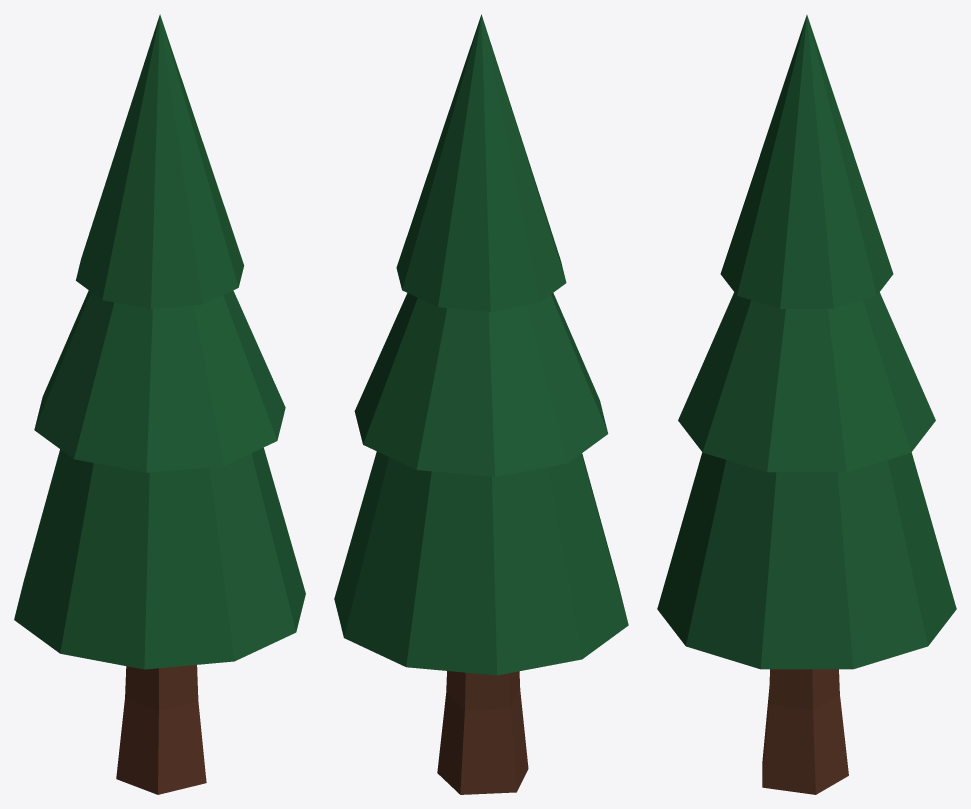
The model's file is Pinheiro.fbx.
3 views of the same model, side by side, from view 1: azimuth 30°, elevation 25°; view 2: azimuth 150°, elevation 25°; view 3: azimuth 270°, elevation 25° (orthographic).
Parts seen in each view (by area): view 1: Pinheiro.002; view 2: Pinheiro.002; view 3: Pinheiro.002.
Part boxes in pixels (<box>): Pinheiro.002: <box>14,14,305,794</box>; Pinheiro.002: <box>334,14,628,794</box>; Pinheiro.002: <box>657,15,956,794</box>.
Bounding box in the file's own units: 1546 × 4559 × 1625.
